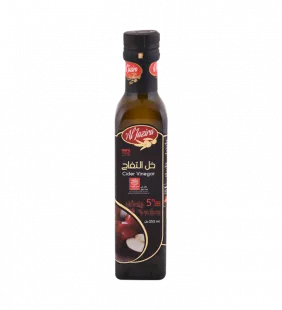AL JAZIRA: (108, 20, 173, 289)
